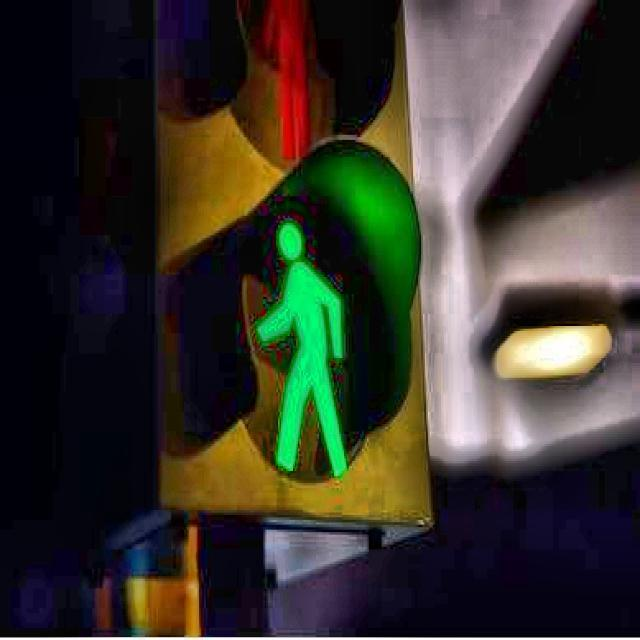green_light: (254, 218, 350, 482)
